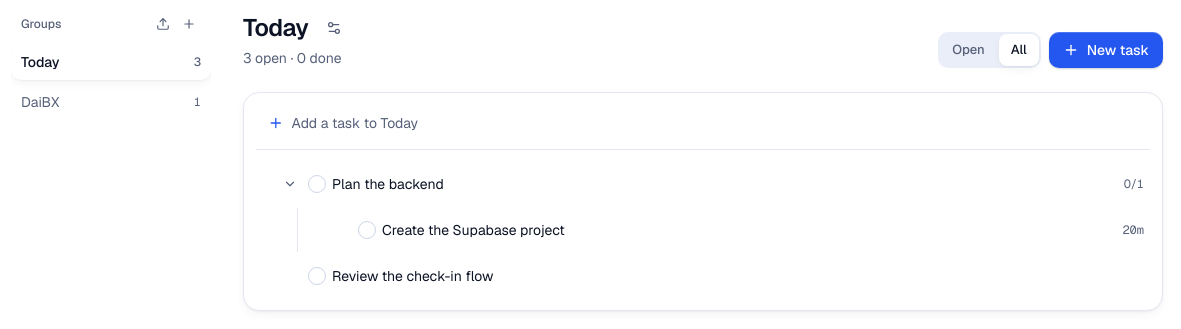
it: ticking a parent shows the cascade the server answers with
Expected: the text "Plan the backend" is shown, x1=332 y1=175 x2=444 y2=193
Click the checkbox named "Mark Plan the backend as done" at (317, 184), box x1=308 y1=175 x2=326 y2=193
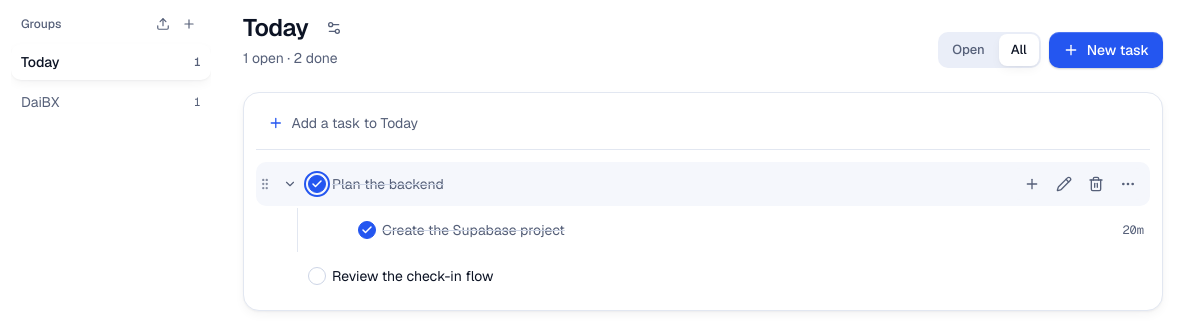
Expected: the text "1 open · 2 done" is shown, x1=243 y1=48 x2=350 y2=68
